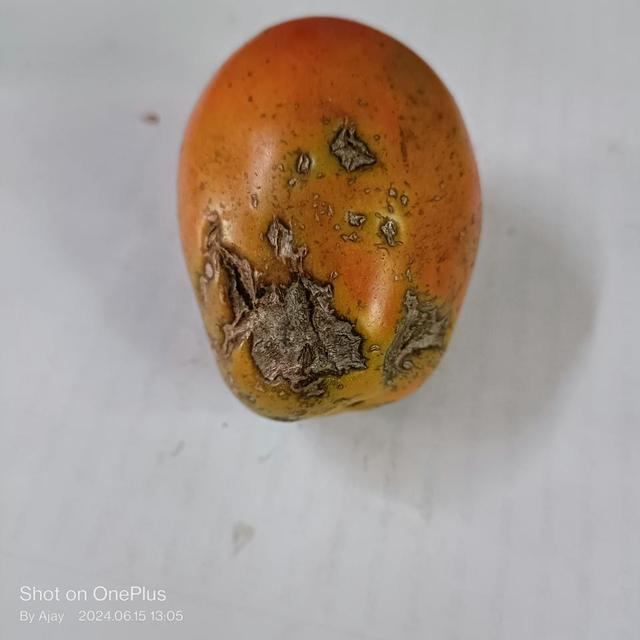Bacterial Spot Fruit: (16, 22, 277, 218)
